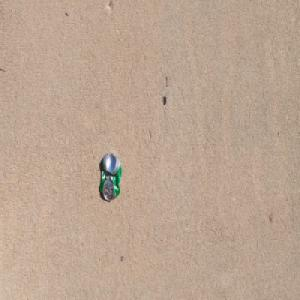SodaCan: (99, 151, 123, 202)
